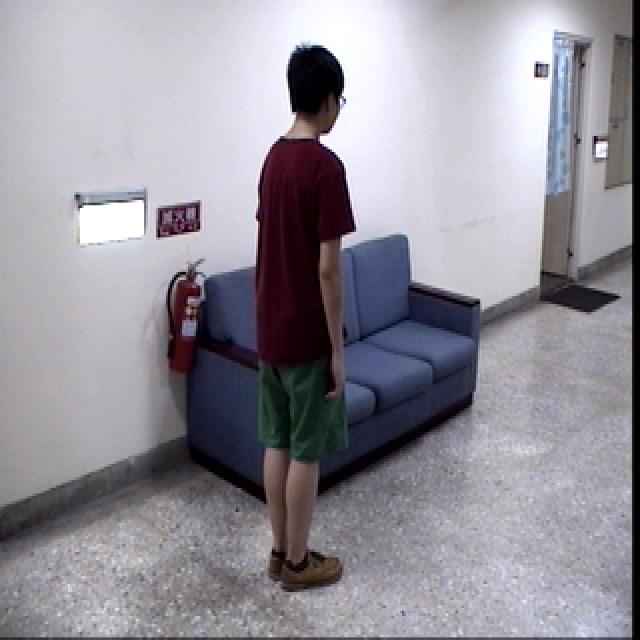stand: (251, 32, 366, 611)
